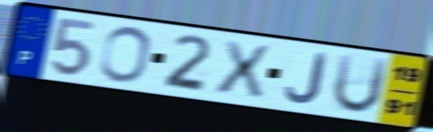2: (161, 34, 212, 94)
5: (46, 16, 101, 78)
J: (283, 51, 329, 106)
O: (97, 24, 153, 85)
U: (330, 51, 392, 116)
X: (213, 38, 274, 100)
